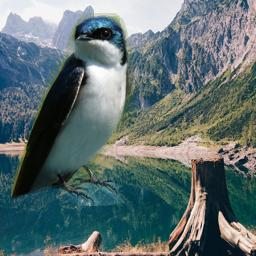Swallow: (11, 13, 135, 206)
